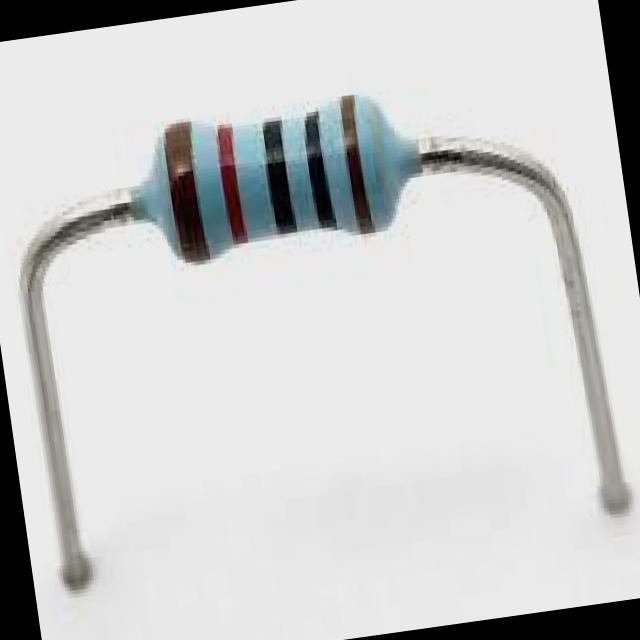Resistor: (138, 95, 420, 259)
black: (262, 114, 297, 248), (299, 111, 332, 239)
brown: (164, 119, 210, 277), (336, 91, 375, 240)
red: (214, 124, 248, 258)
